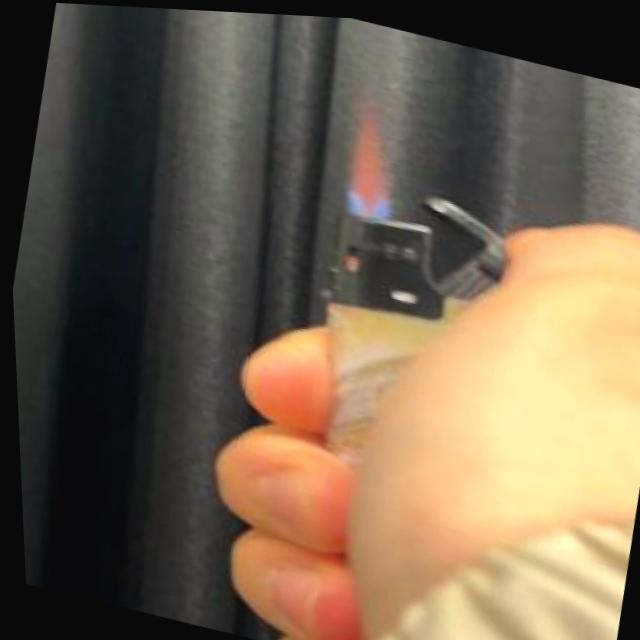fire: (328, 73, 418, 224)
